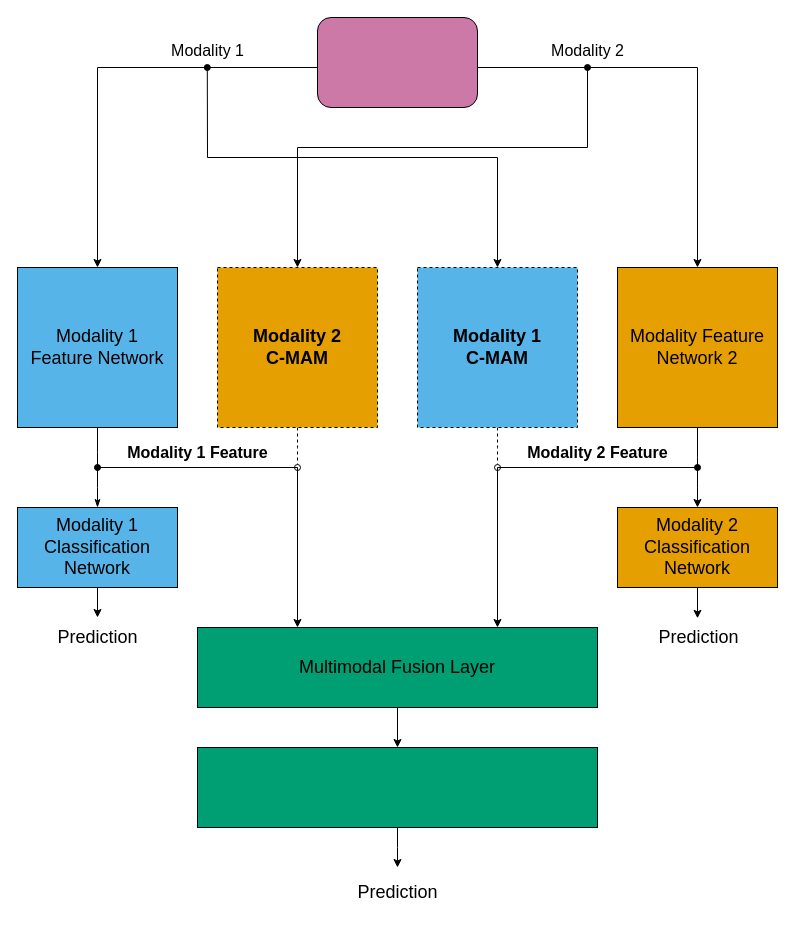
Some shapes in this 795 by 930 pixel diagram are drawn without their labels. The box of each missing label's shape, as (x1, y1, x2, y2) in pixels:
Multimodal Data Set: (316, 16, 478, 108)
Multimodal Network: (196, 746, 598, 828)
